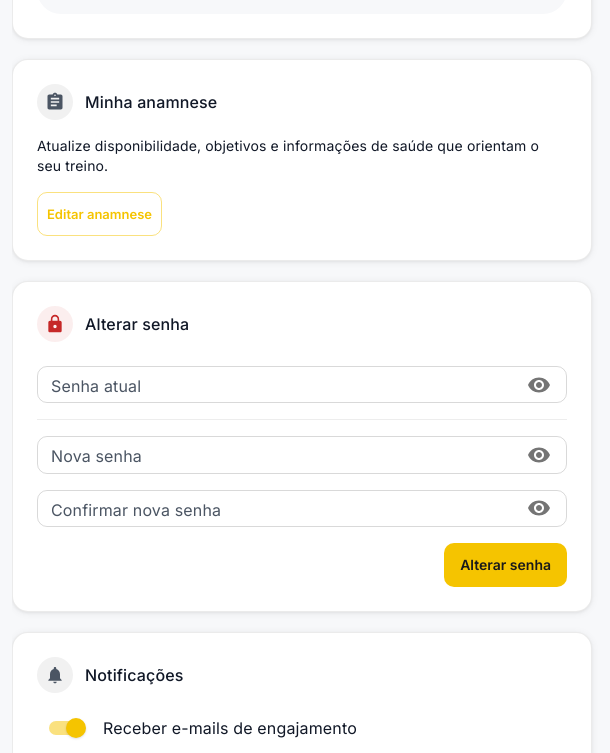
Test case: /perfil — alterar senha › erro no POST de senha exibe banner
(page scrolled)
Type "old12345" into the password field labelled "Senha atual" at (276, 385), box left=37, top=366, right=514, bottom=403
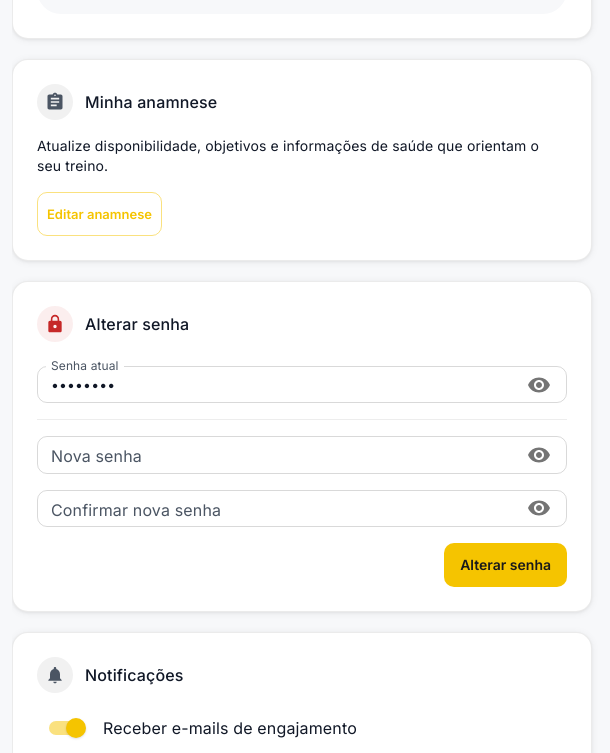
Type "NovaSenha123" into the password field labelled "Nova senha" at (276, 455), box left=37, top=436, right=514, bottom=474
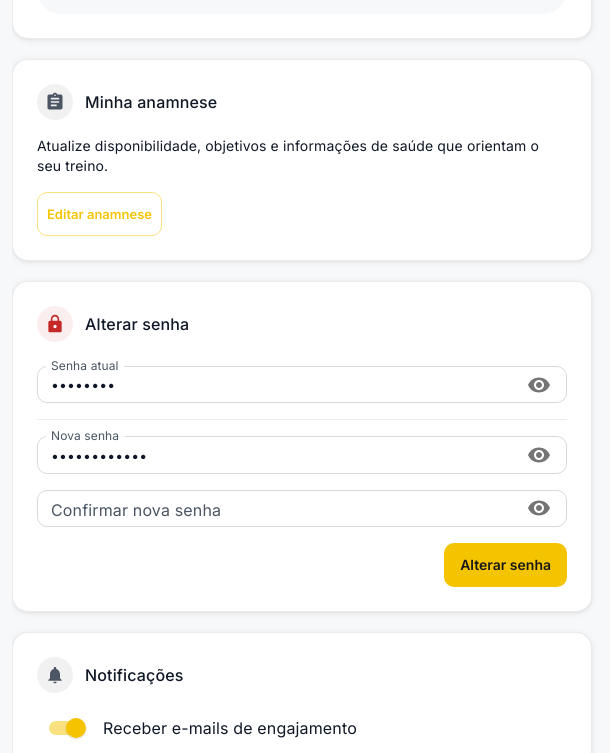
Type "NovaSenha123" into the password field labelled "Confirmar nova senha" at (276, 508), box left=37, top=490, right=514, bottom=527
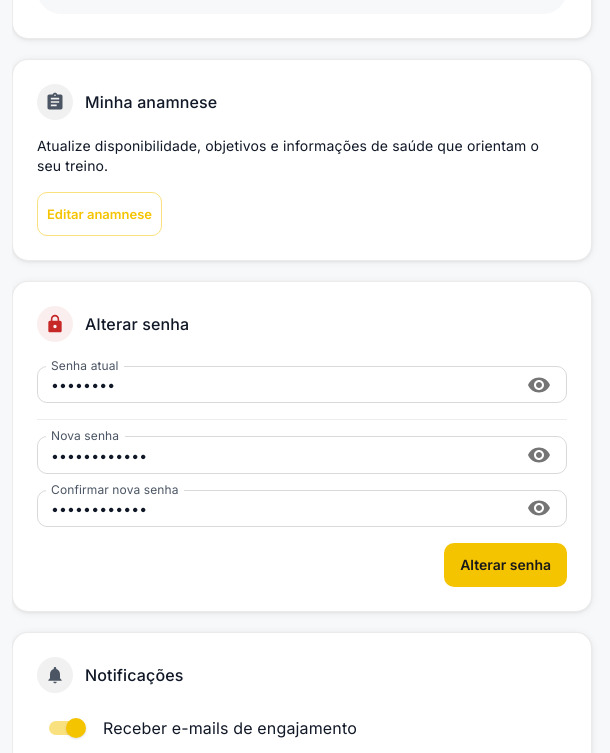
Click the button "Alterar senha" at (506, 565), box left=444, top=543, right=567, bottom=587
(page scrolled)
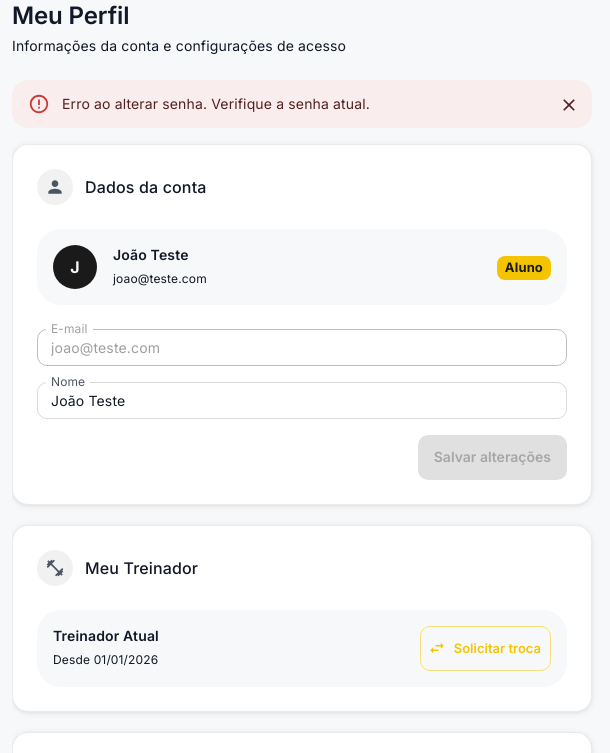
Check: the text "Erro ao alterar senha. Verifique a senha atual." is shown, box left=62, top=95, right=370, bottom=112
